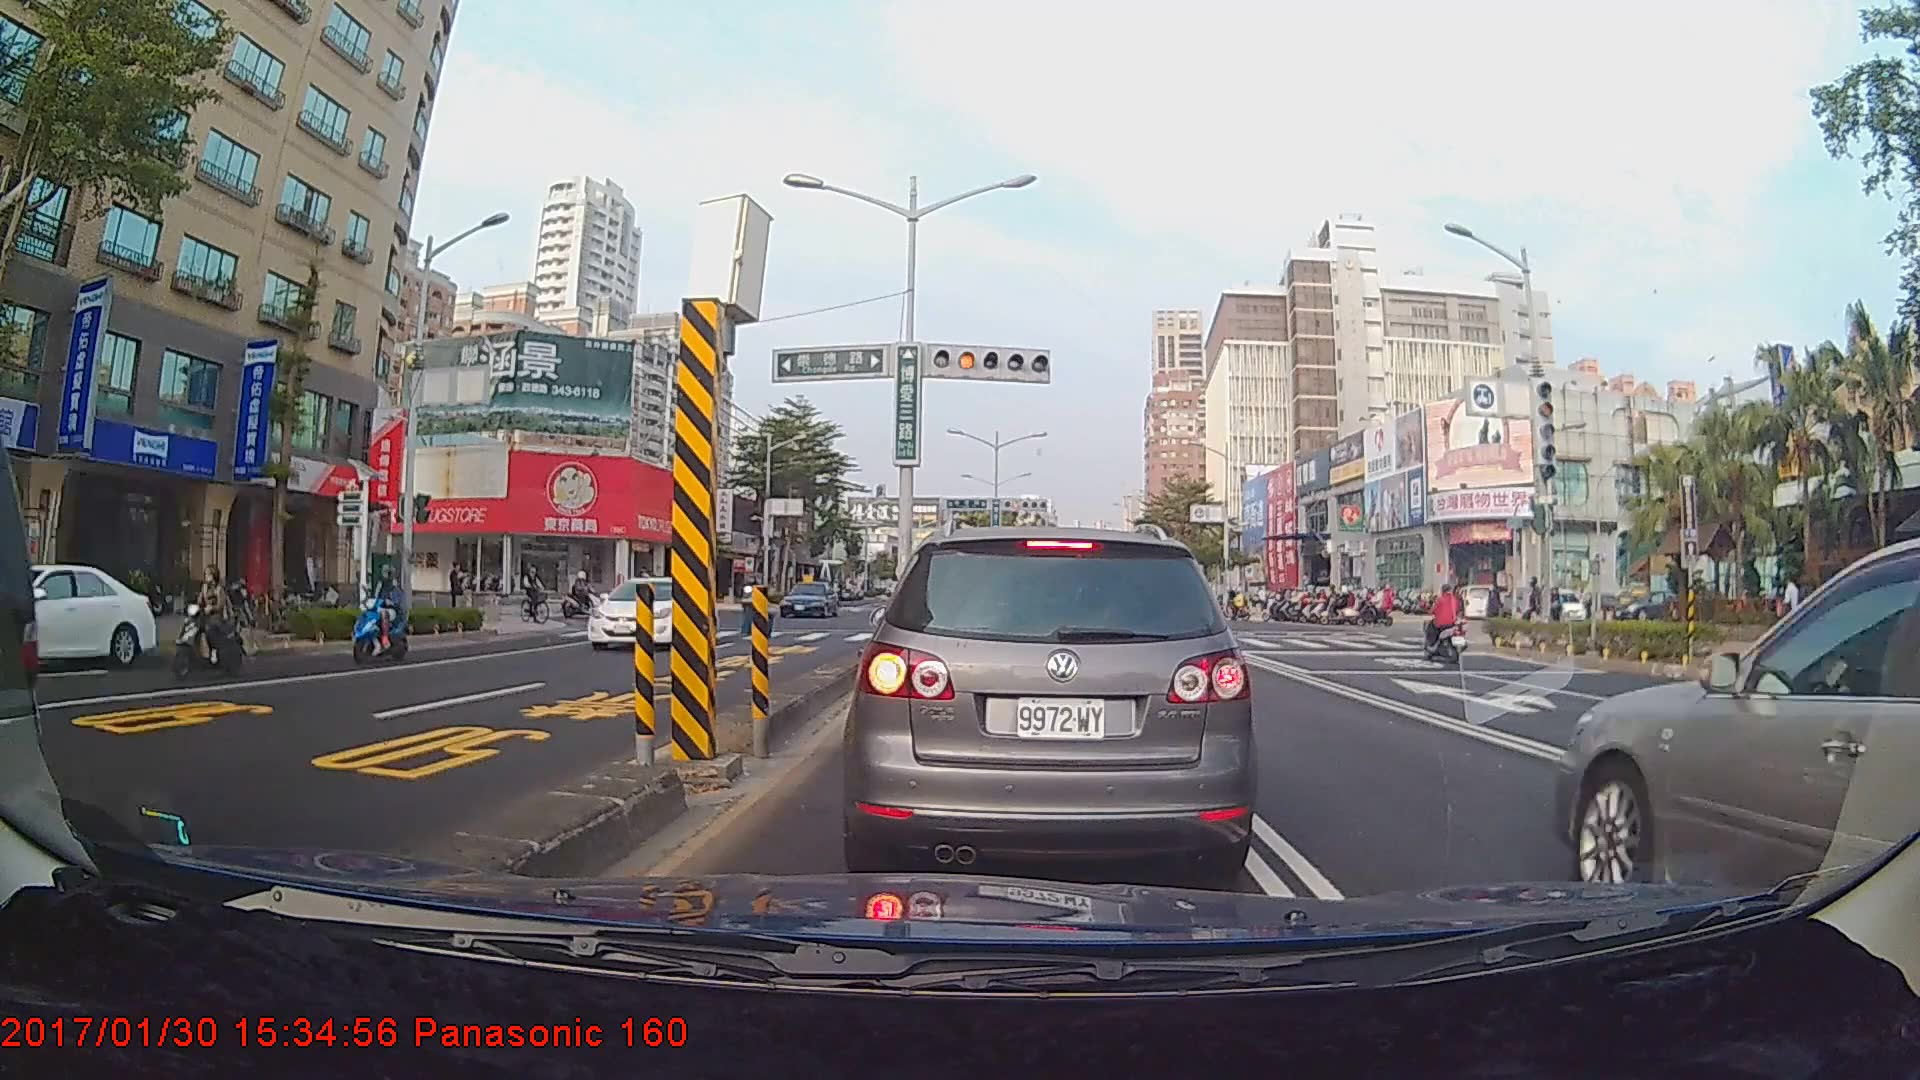pedestrian: (1484, 579, 1509, 637), (448, 558, 468, 621)
rider: (170, 563, 257, 688), (349, 553, 413, 673), (1420, 583, 1476, 672), (561, 568, 613, 625), (518, 559, 553, 629)
vehicle: (1553, 531, 1920, 1024), (855, 519, 1252, 880), (0, 561, 174, 671), (584, 573, 717, 652), (778, 578, 837, 619)
